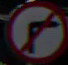Don't turn right: (6, 6, 58, 53)
